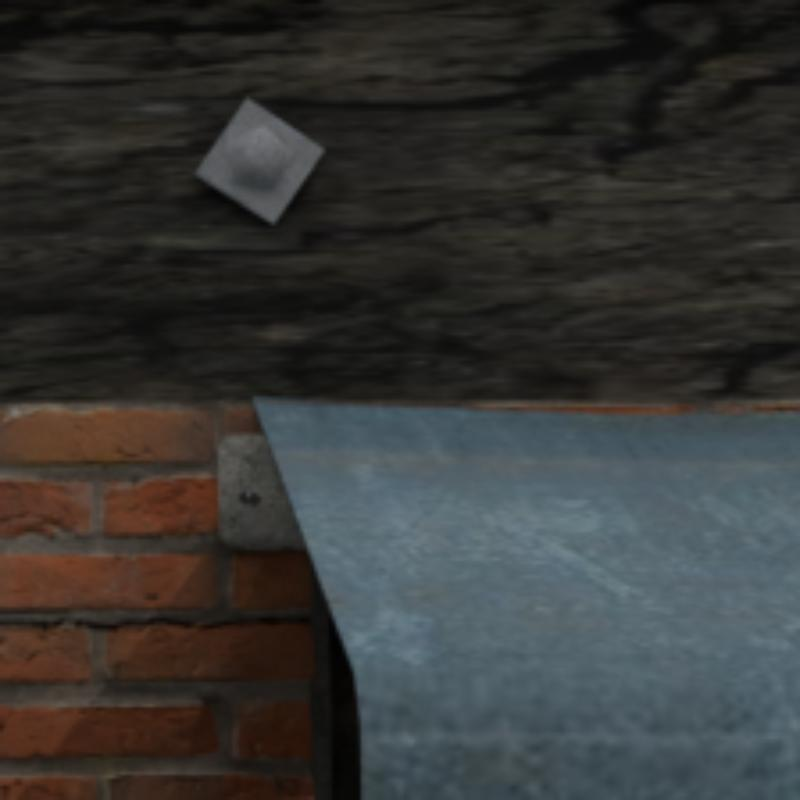pothole: (0, 614, 311, 629)
